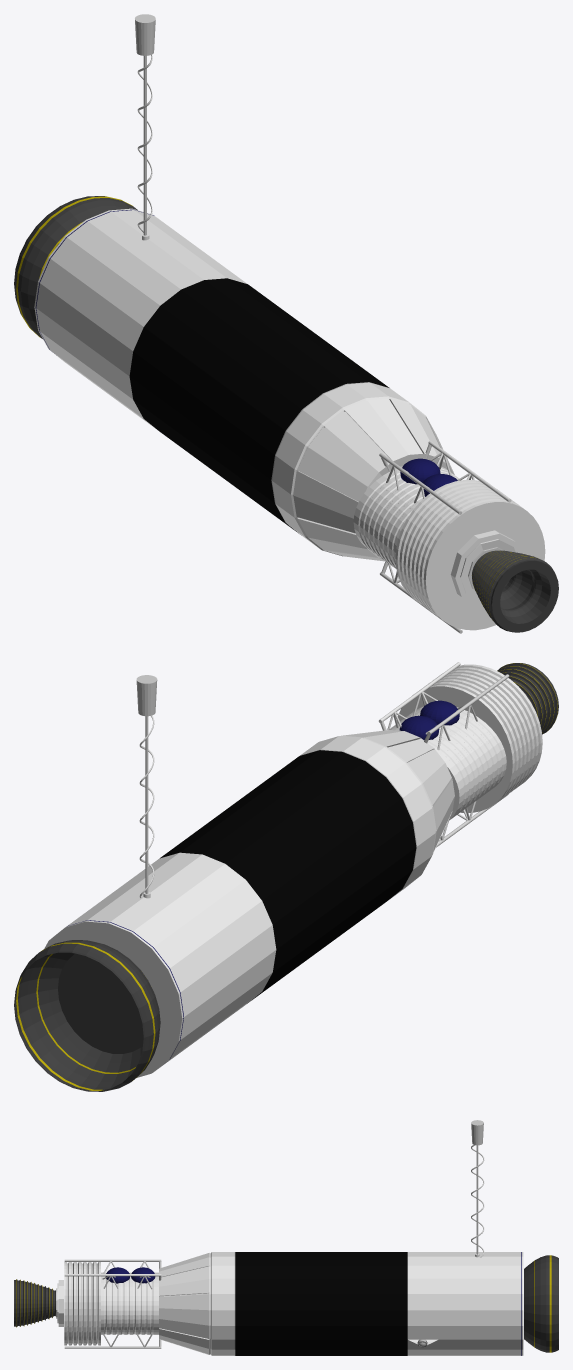
File: agena.fbx
The picture shows the model from 3 angles, top to bottom: view 1: azimuth 30°, elevation 25°; view 2: azimuth 150°, elevation 25°; view 3: azimuth 270°, elevation 25°; orthographic projection. The views are drawn at different scales.
Parts seen in each view (by area): view 1: polySurfac, pCylinder3, pPipe1, pCylinder1, pCylinder4, pCylinder5, pCylinder2; view 2: polySurfac, pCylinder1, pCylinder3, pCylinder4, pPipe1, pCylinder2, group8 pSp, pSphere1 g; view 3: polySurfac, pCylinder1, pCylinder4, pCylinder3, pPipe1, pCylinder2, pCylinder5.
Boxes of the visible parts, box(x1,y1,x2,y2) form: polySurfac: box(34, 208, 454, 561); pCylinder3: box(395, 480, 545, 630); pPipe1: box(472, 550, 558, 632); pCylinder1: box(14, 196, 137, 338); pCylinder4: box(353, 465, 459, 568); pCylinder5: box(450, 530, 519, 605); pCylinder2: box(135, 14, 155, 235); polySurfac: box(44, 730, 454, 1077); pCylinder1: box(14, 940, 160, 1091); pCylinder3: box(397, 664, 542, 812); pCylinder4: box(389, 706, 506, 821); pPipe1: box(497, 663, 558, 734); pCylinder2: box(136, 675, 157, 893); group8 pSp: box(420, 700, 459, 725); pSphere1 g: box(399, 715, 439, 739); polySurfac: box(159, 1252, 523, 1355); pCylinder1: box(524, 1255, 558, 1352); pCylinder4: box(101, 1272, 158, 1334); pCylinder3: box(64, 1262, 100, 1345); pPipe1: box(14, 1279, 55, 1327); pCylinder2: box(471, 1120, 483, 1254); pCylinder5: box(56, 1280, 63, 1326).
Size of the model in its own units: 52.33 by 126 by 273.
